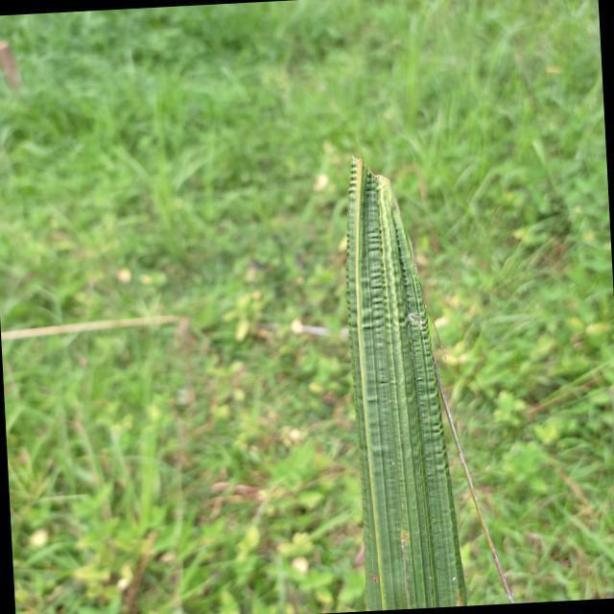Boron: (344, 150, 468, 614)
